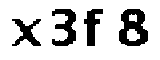3: (48, 6, 79, 49)
8: (118, 5, 149, 50)
f: (84, 6, 105, 49)
x: (10, 17, 42, 51)
